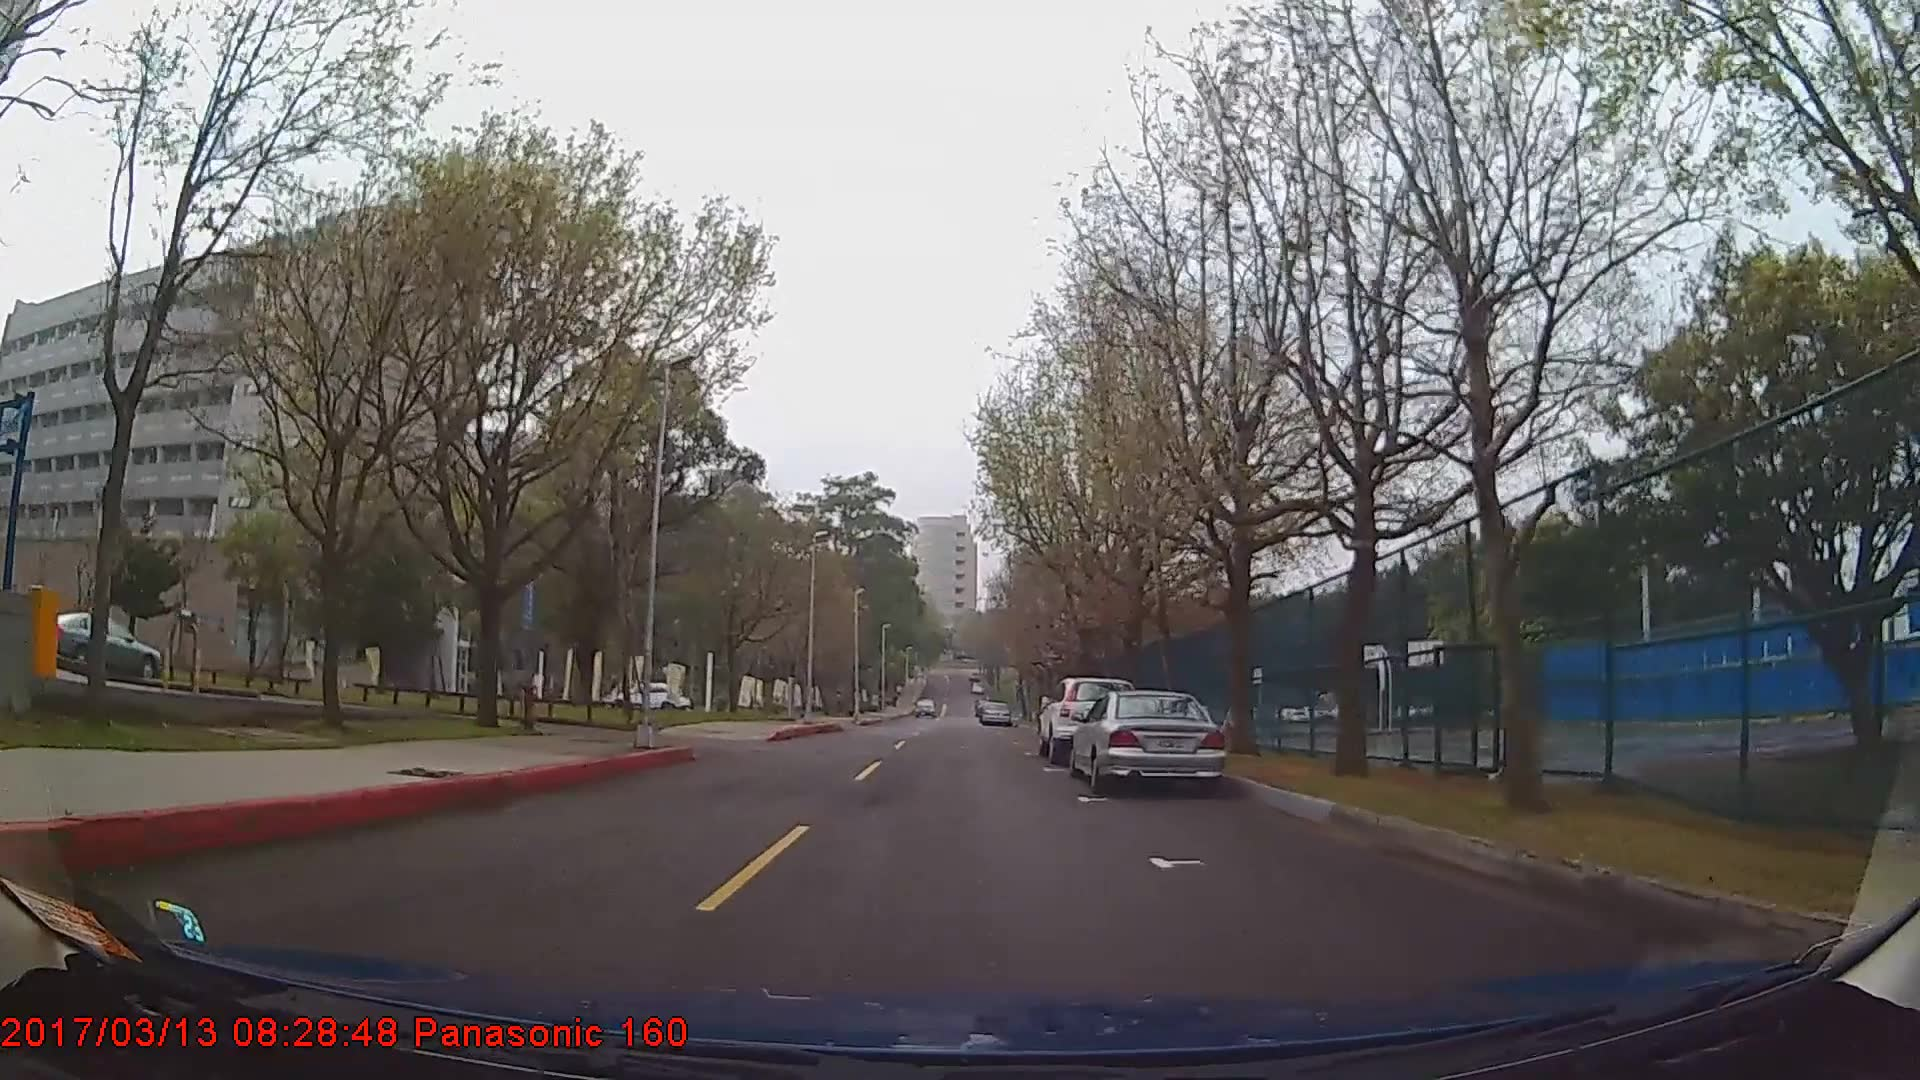vehicle: (1067, 687, 1226, 789), (36, 611, 161, 683), (1035, 675, 1134, 761), (607, 676, 691, 708), (978, 699, 1010, 727)
